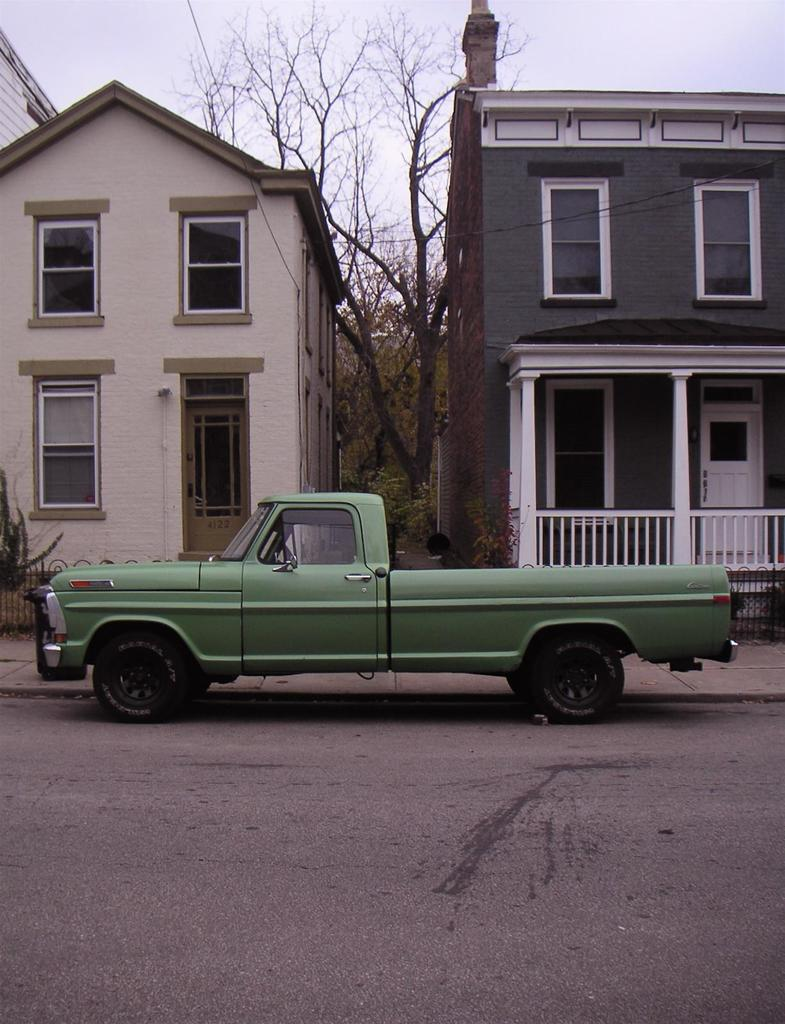car: (20, 482, 749, 725)
